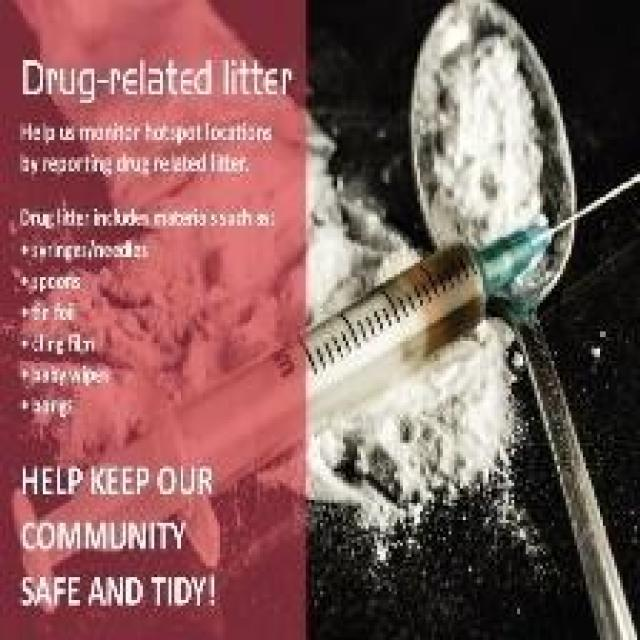syringe: (29, 185, 640, 574)
